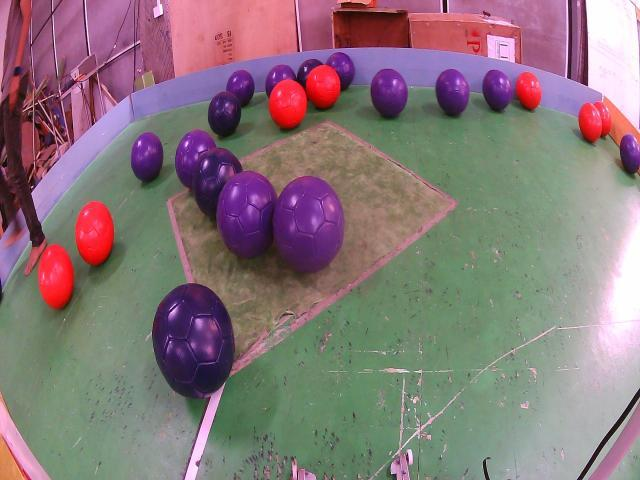jambhalya: (272, 175, 345, 273), (216, 170, 278, 258), (175, 128, 216, 189), (371, 68, 408, 117), (130, 132, 164, 182), (435, 68, 469, 116), (482, 70, 512, 111), (326, 52, 355, 90), (226, 70, 255, 107), (265, 65, 296, 97), (620, 133, 640, 173)
kaalyya: (152, 283, 235, 398), (192, 148, 242, 218), (208, 92, 241, 137), (296, 58, 322, 90)
